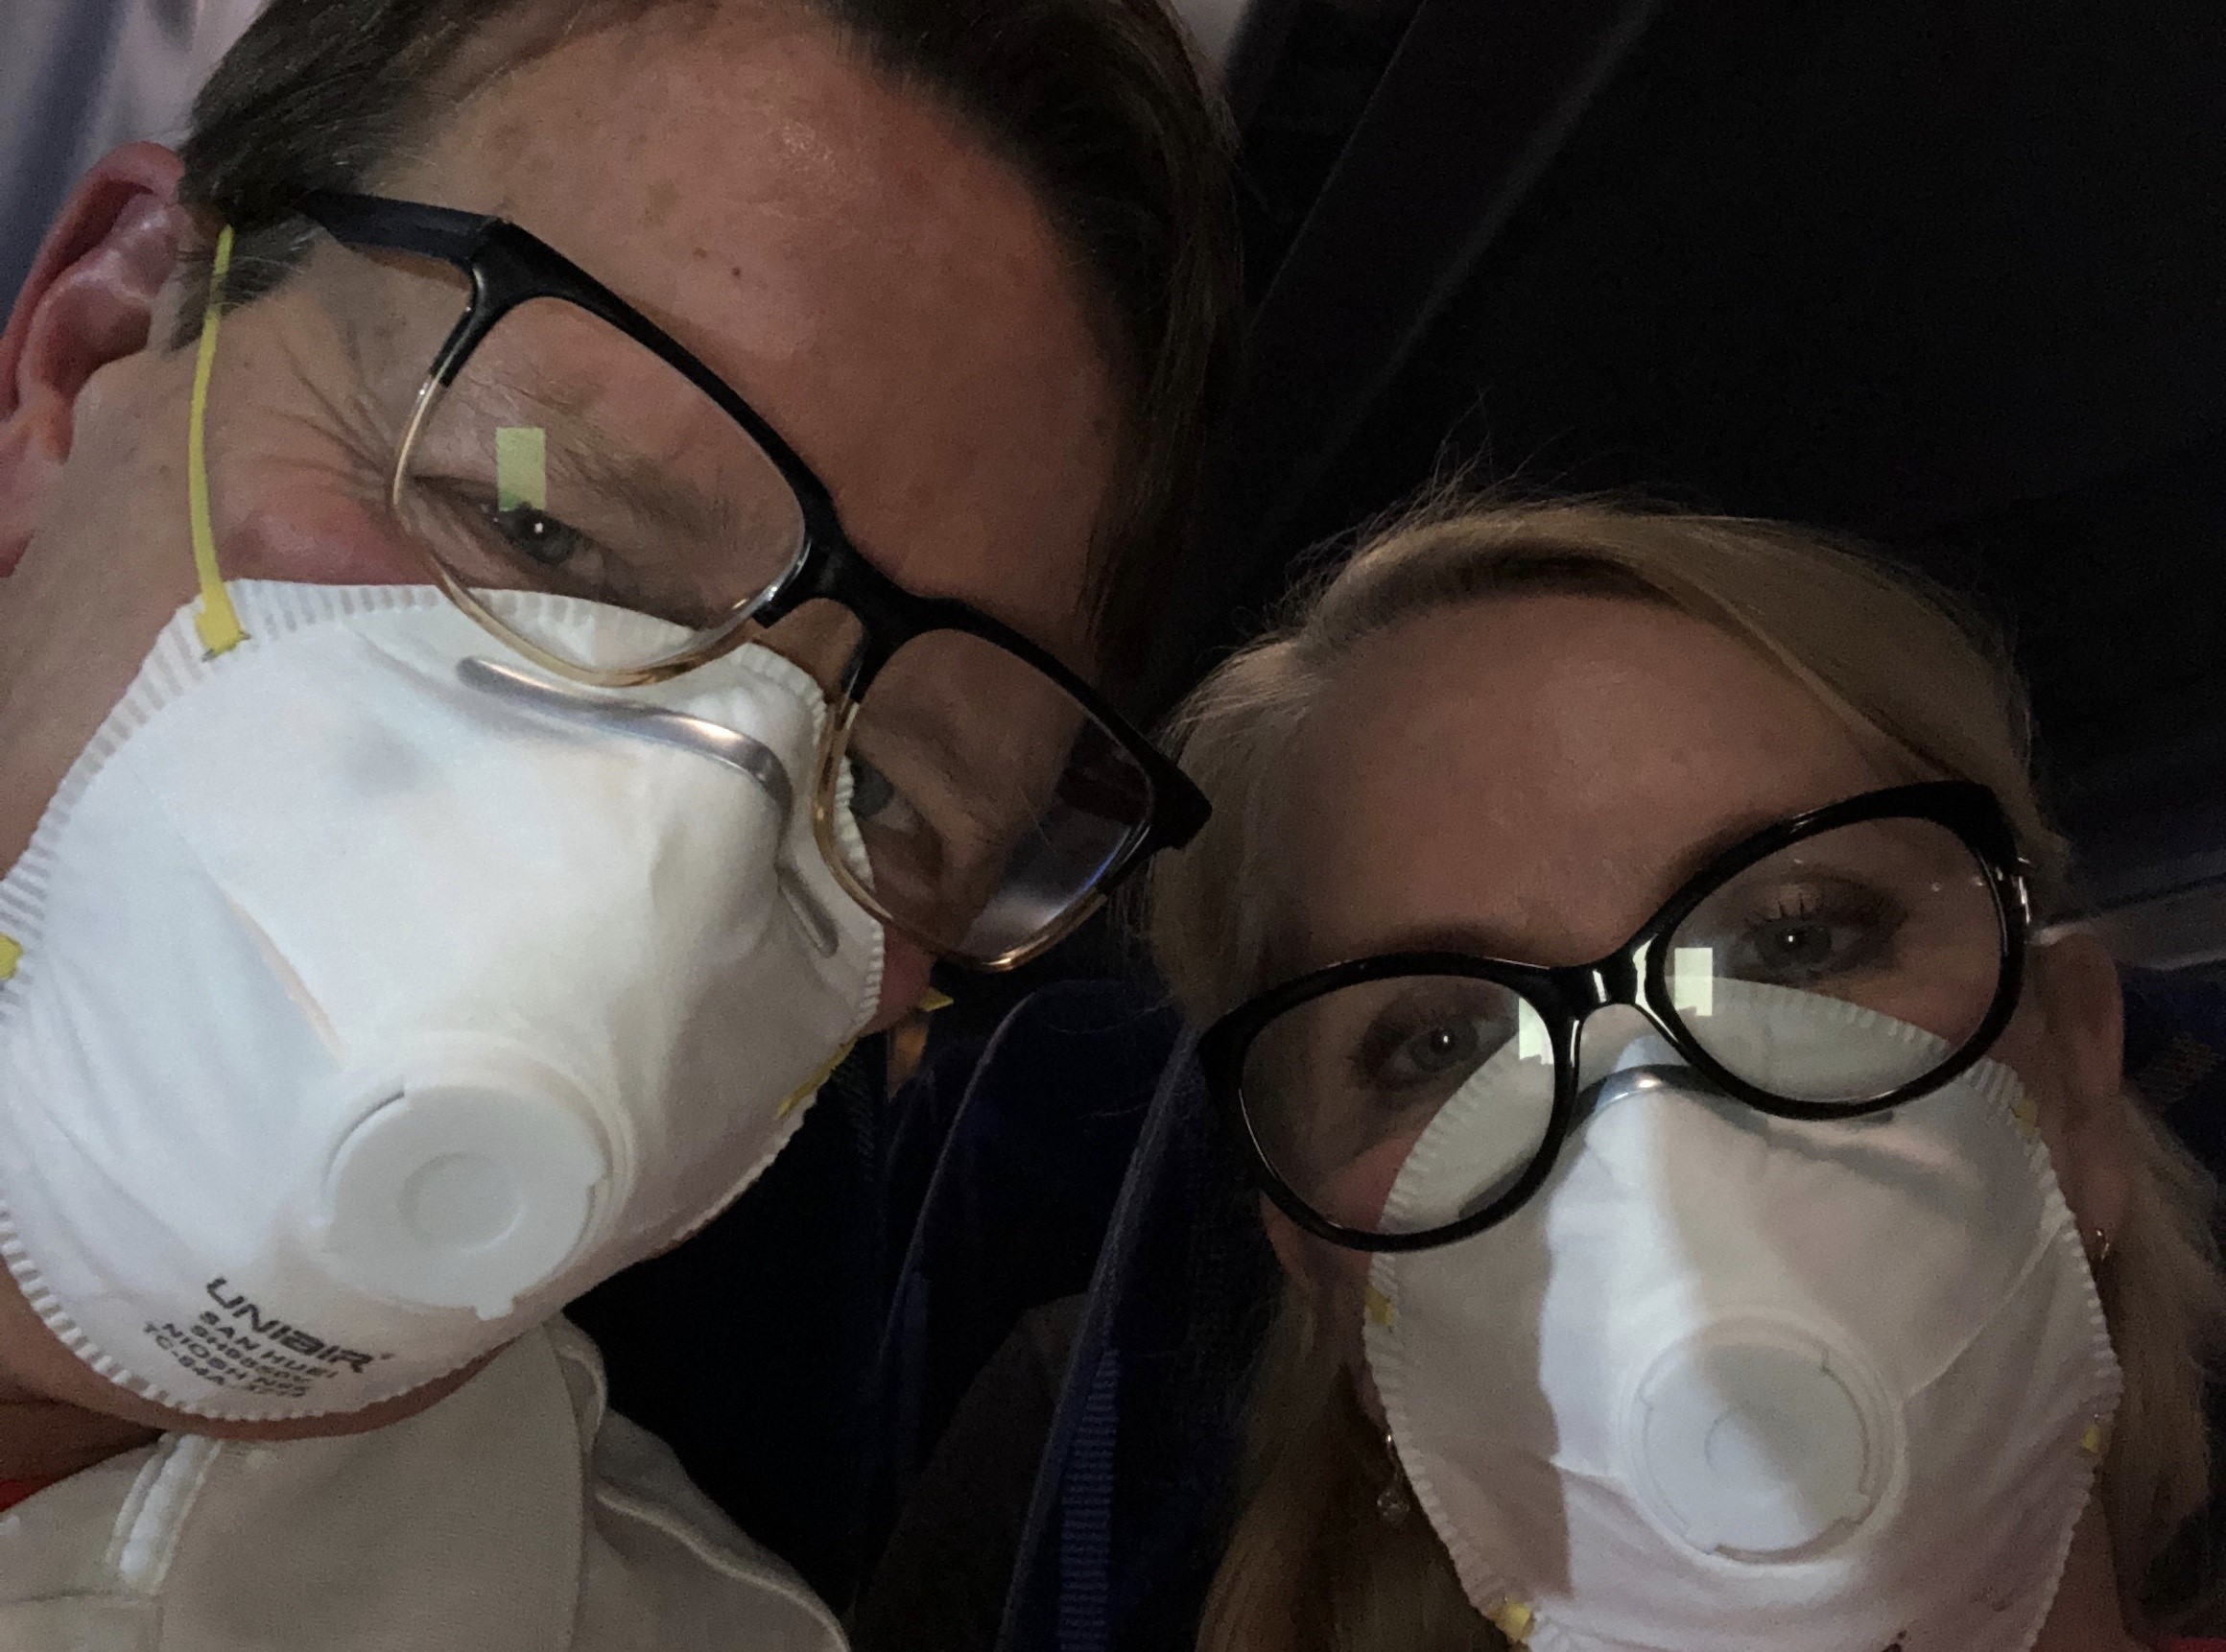face_with_mask: (3, 15, 1139, 1456), (1172, 494, 2210, 1651)
